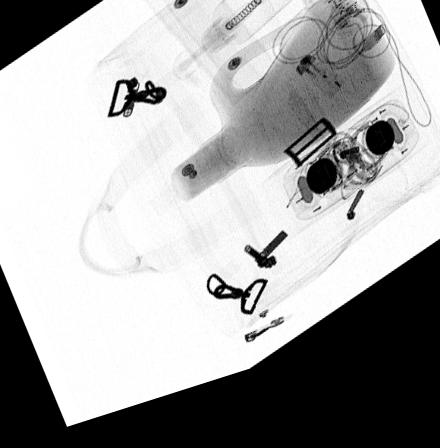Lighter: (295, 73, 345, 118)
